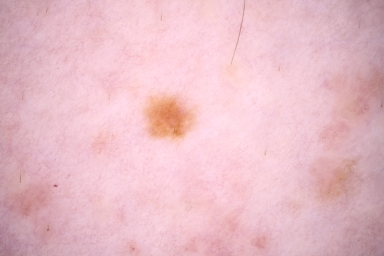nevus: (145, 94, 197, 140)
